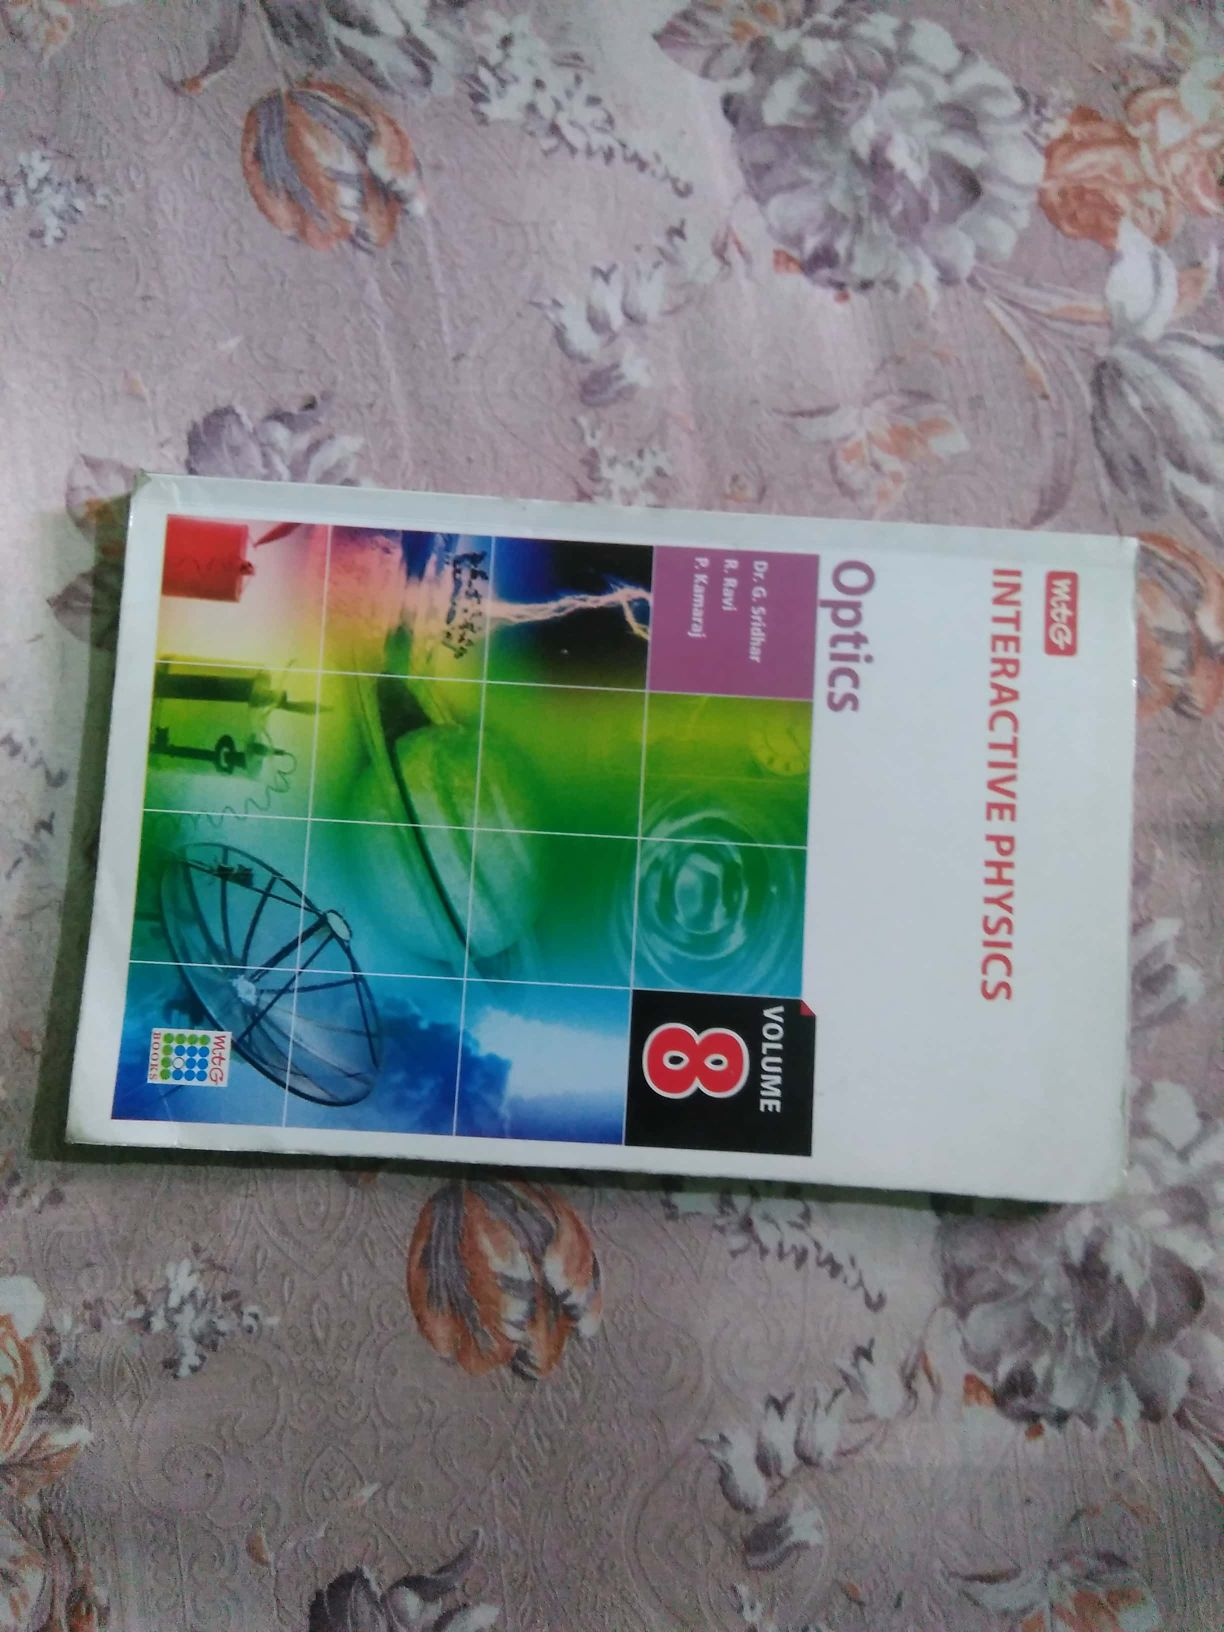optics: (51, 456, 1158, 1266)
